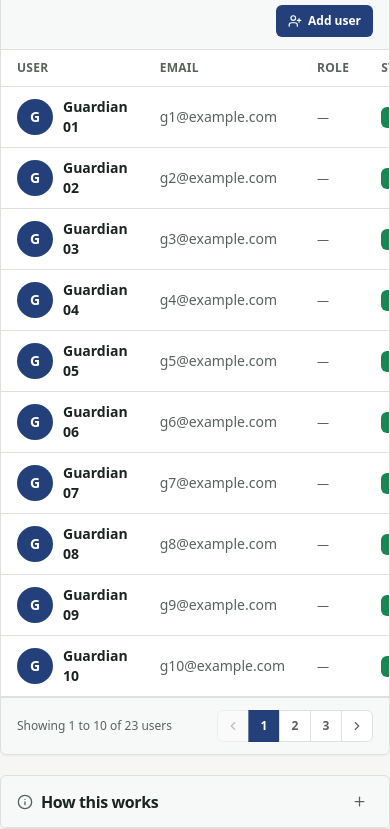
Test case: TeamUserManagement › filters by search and resets to the first page
(page scrolled)
Click the button named "Page 3": (326, 726) [310,710,342,742]
(page scrolled)
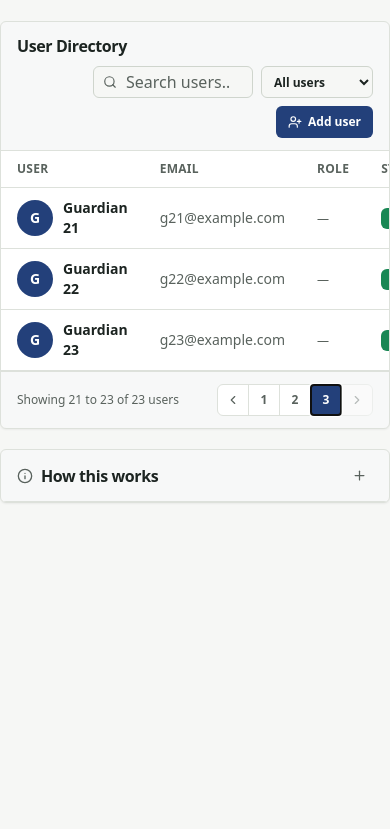
Expected: the text "Showing 21 to 23 of 23 users" is shown, [17,392,179,408]
Note: Searching from page 3 must not strand the user on an empty page.
In the search field labelled "Search users…": (173, 82) [93,66,253,98], type "g11@"
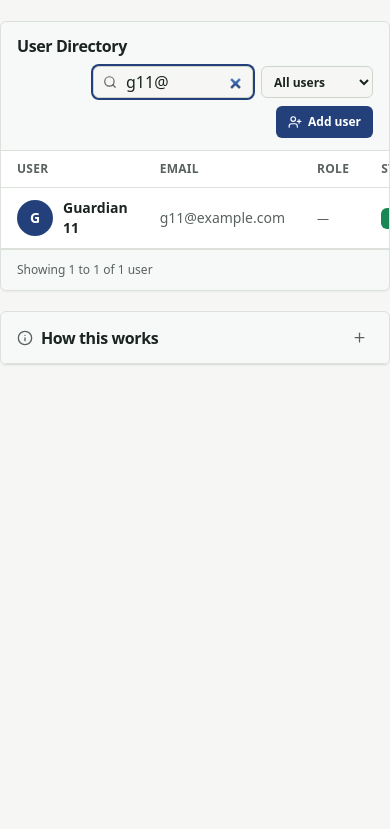
Expected: the text "Showing 1 to 1 of 1 user" is shown, [17,262,153,278]
